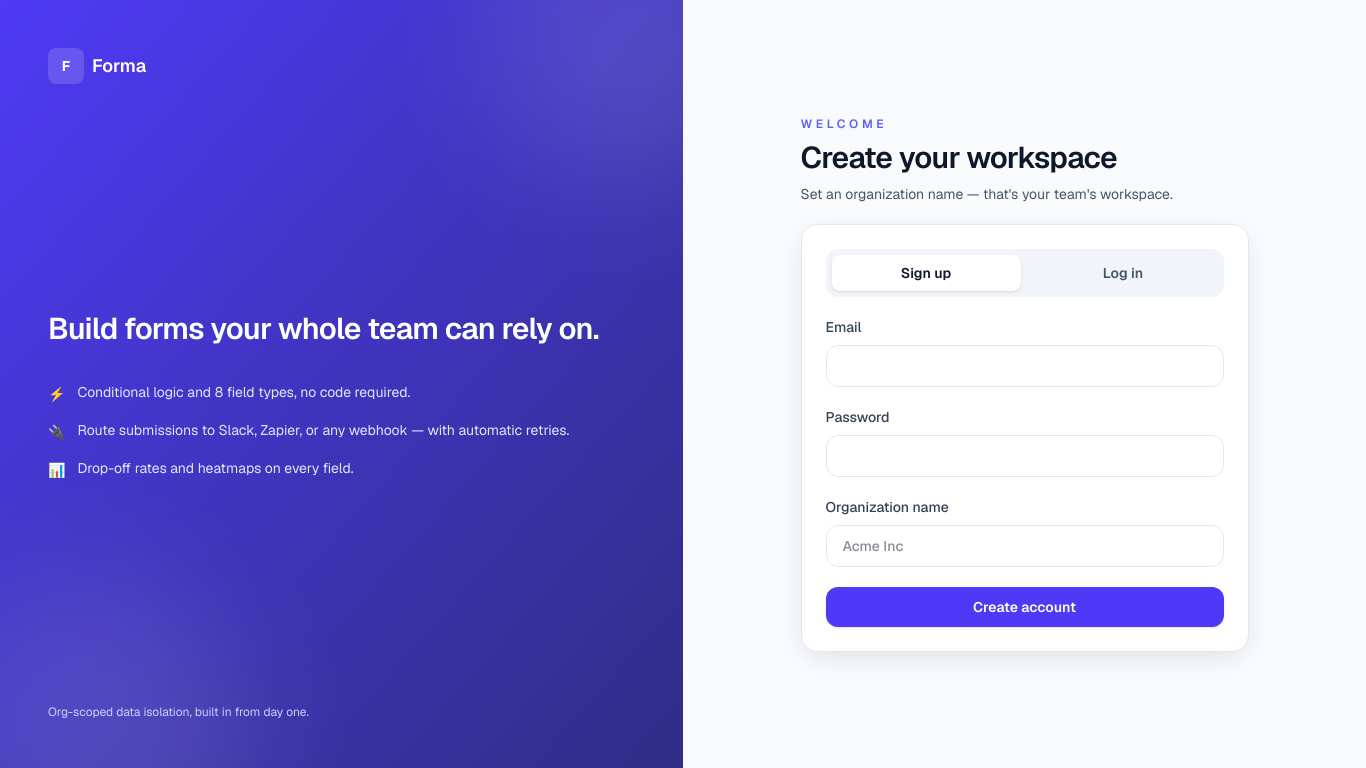
Scenario: sign-up and sign-in page › shows the server's reason and stays put when sign-in fails
Click the button with test id "auth-tab-login" at (1123, 273), box [1028,255,1218,291]
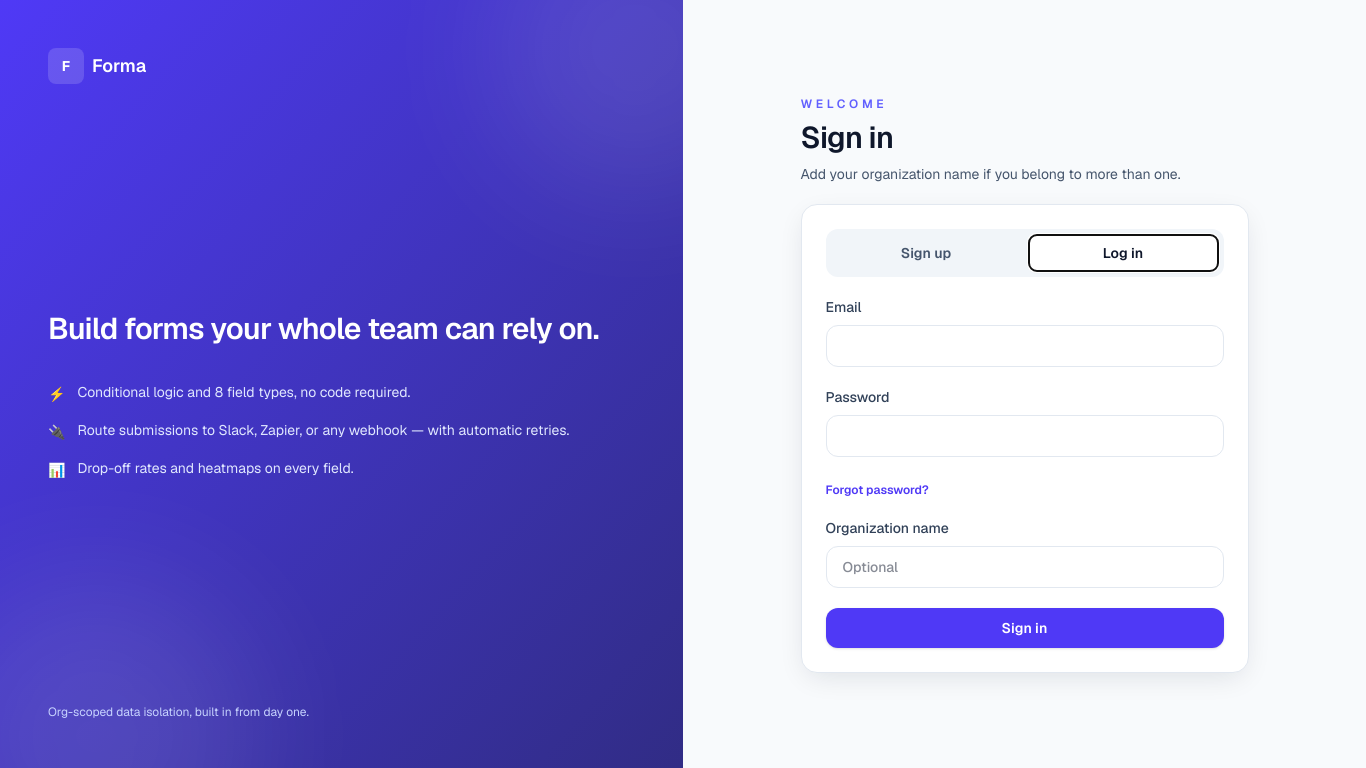
Type "ada@x.test" into the field with test id "auth-email" at (1024, 346), box [826,324,1224,366]
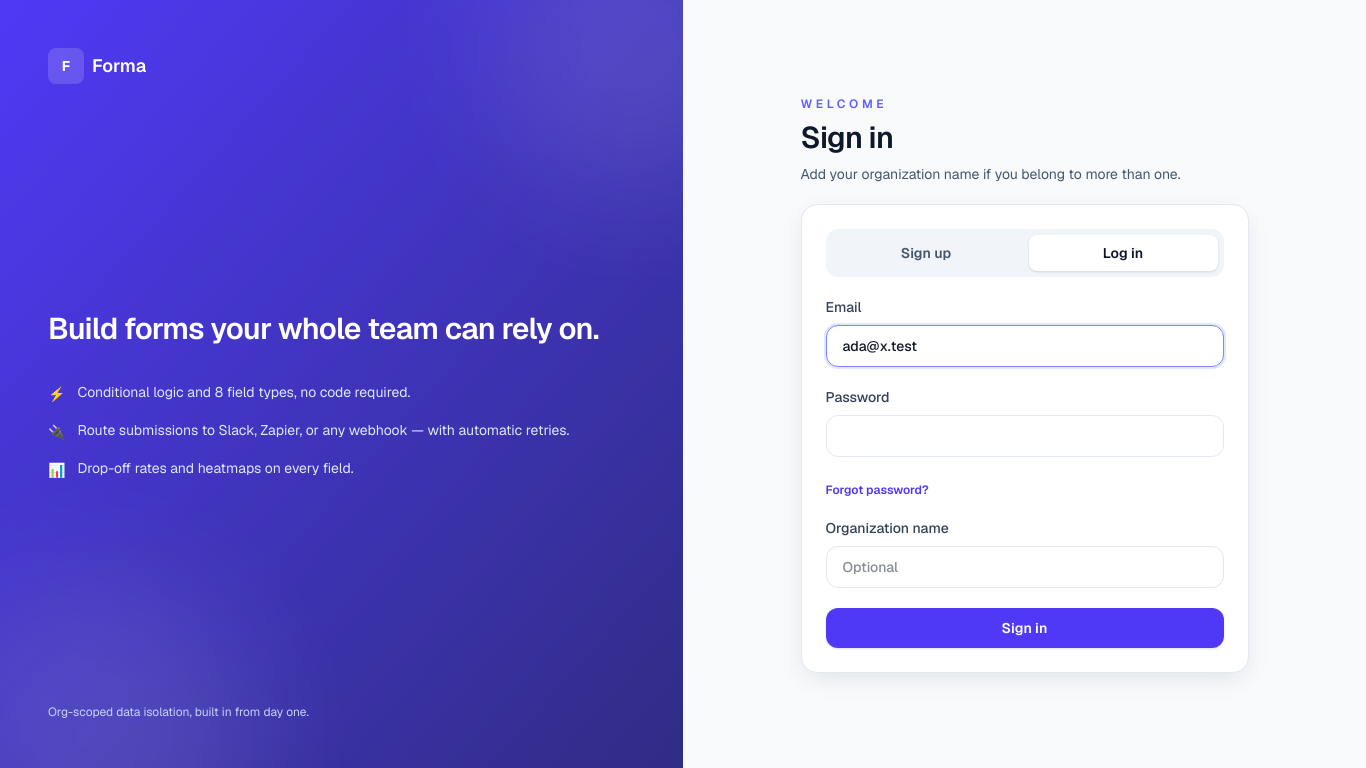
Type "wrong-password" into the password field with test id "auth-password" at (1024, 436), box [826,414,1224,456]
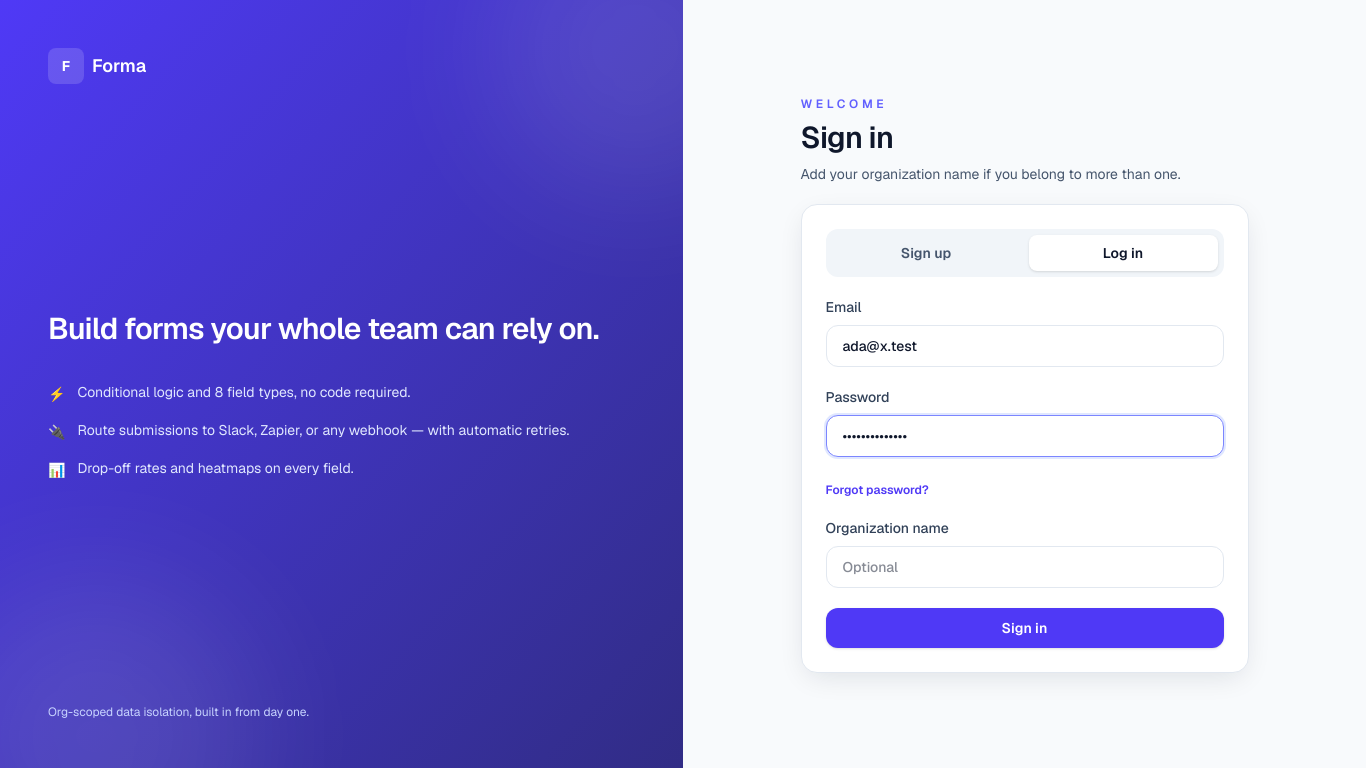
Click the button with test id "auth-submit" at (1024, 628), box [826,608,1224,648]
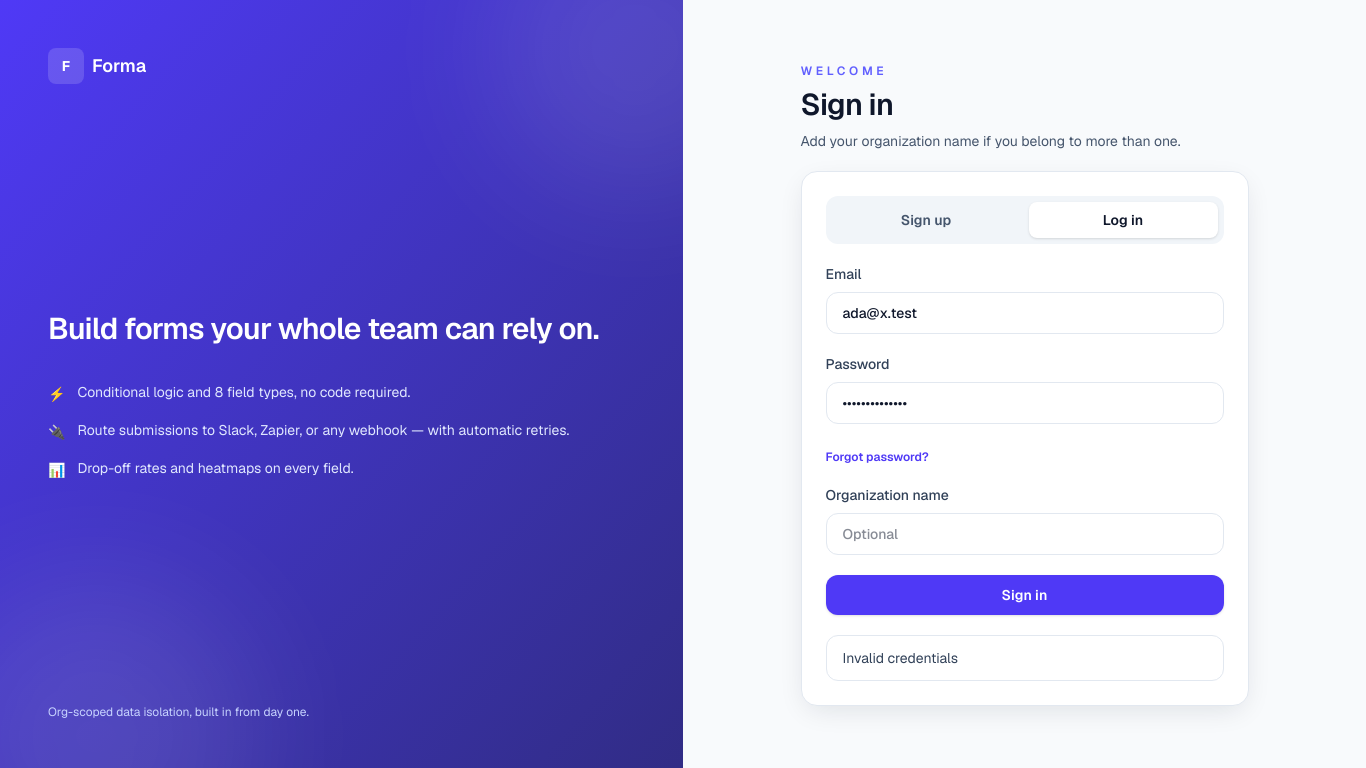
Expected: the text with test id "auth-status" reads "Invalid credentials", [842,648,958,666]
